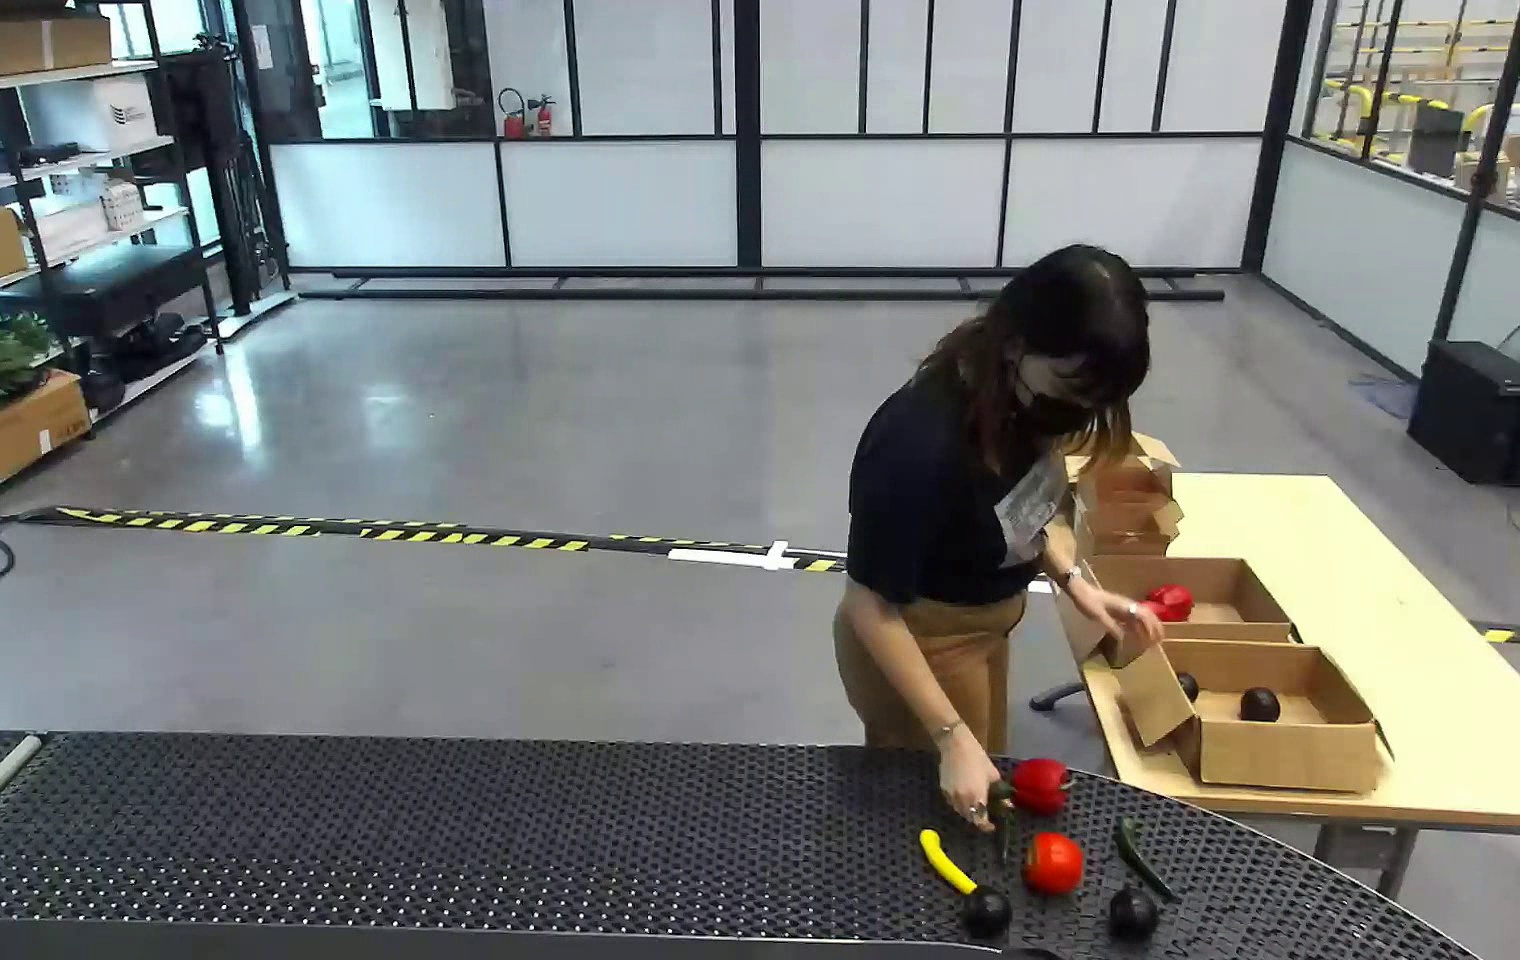Main droite: (932, 727, 1005, 829)
